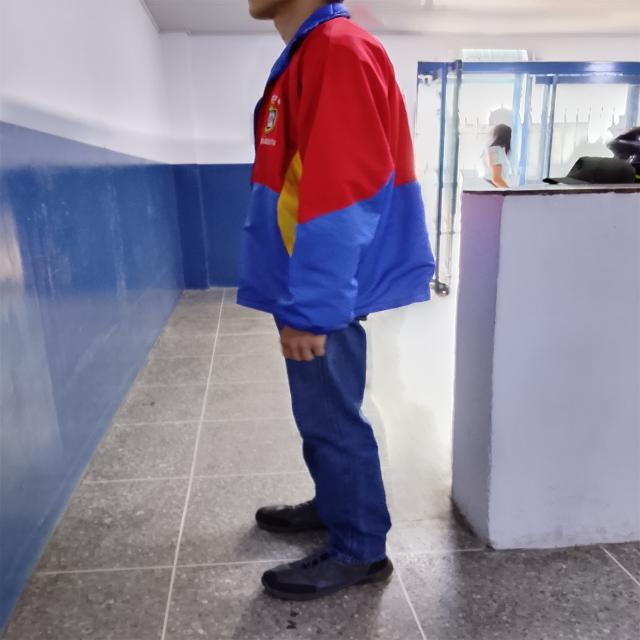chaqueta_unefa: (234, 2, 436, 334)
